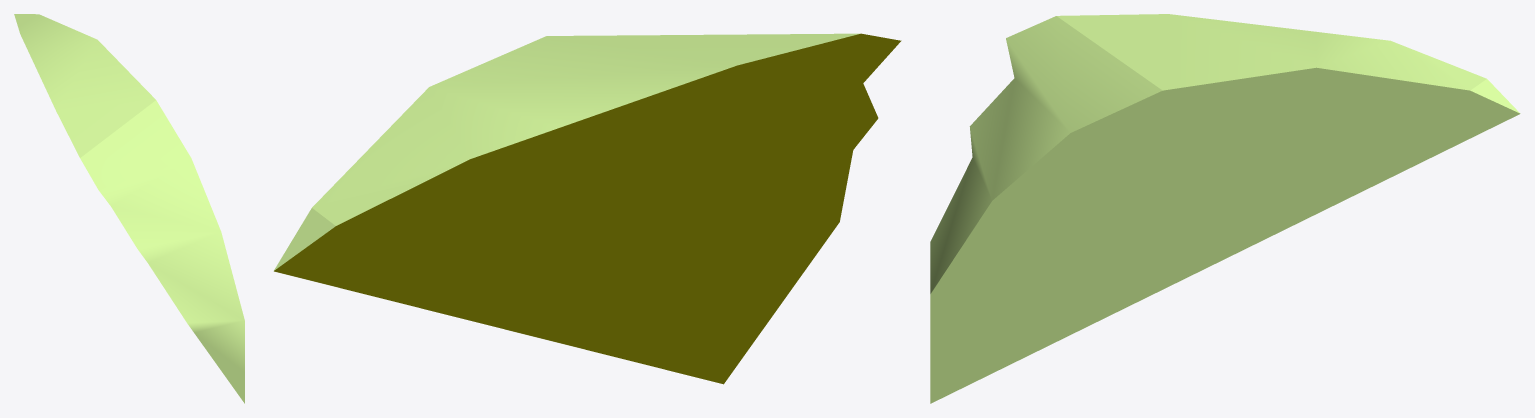
File: cbShard7.fbx
The picture shows the model from 3 angles, left to right: view 1: azimuth 30°, elevation 25°; view 2: azimuth 150°, elevation 25°; view 3: azimuth 270°, elevation 25°; orthographic projection. The views are drawn at different scales.
Visible parts, largest first — view 1: shard19; view 2: shard19; view 3: shard19.
Part boxes in pixels (bbox=[...]): shard19: bbox=[14, 14, 244, 403]; shard19: bbox=[274, 33, 901, 384]; shard19: bbox=[930, 14, 1520, 403].
Bounding box in the file's own units: 0.00549 × 0.0114 × 0.0182.
Materials: 2 (1 with a texture image).
